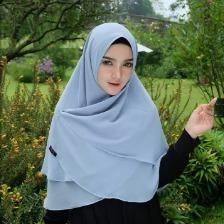HijabSyar-i: (35, 19, 170, 212)
